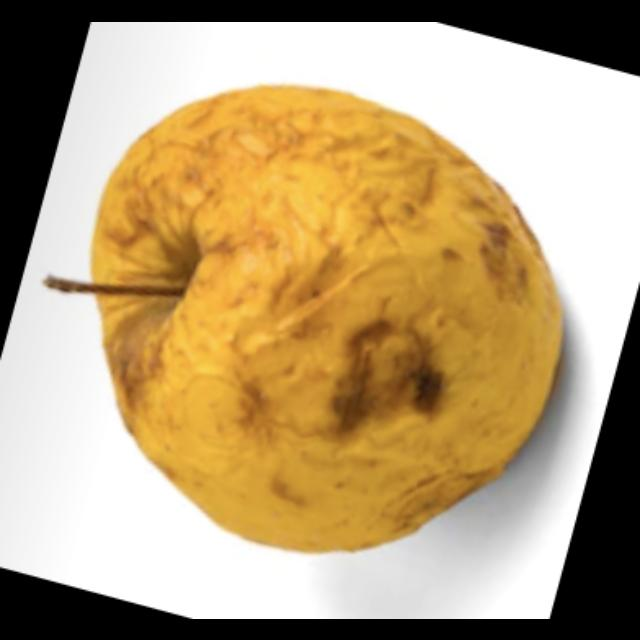Apel Tidak Segar: (100, 86, 568, 550)
